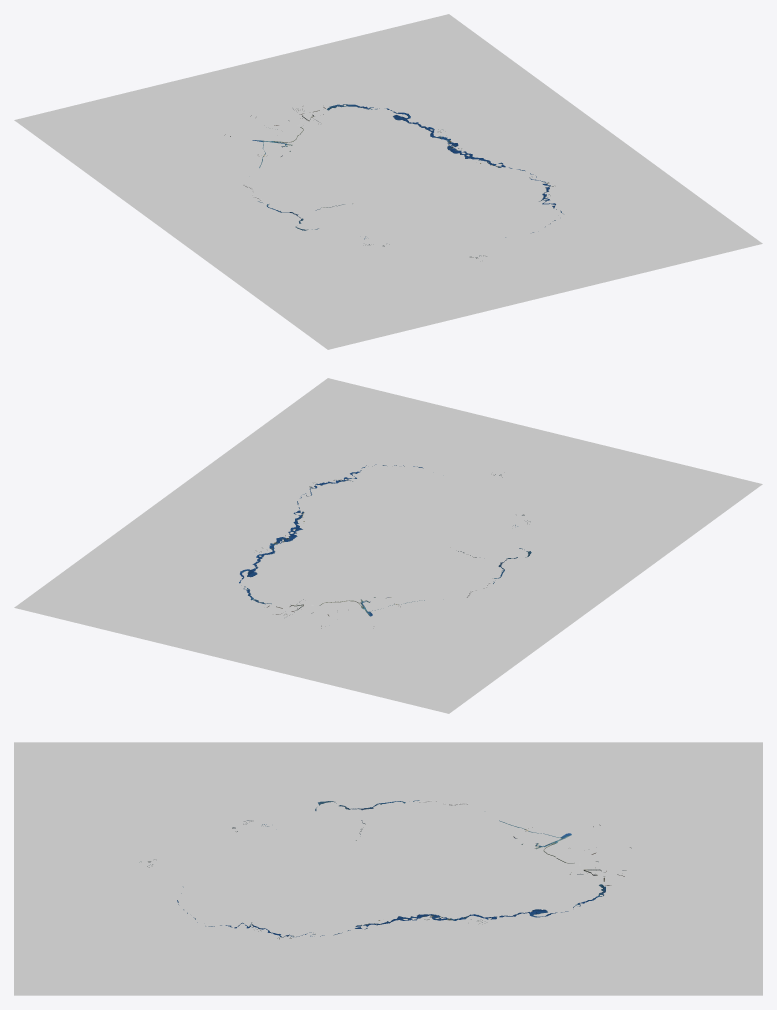
Rendered from los-santos.glb.
3 views of the same model, one above another, from view 1: azimuth 30°, elevation 25°; view 2: azimuth 150°, elevation 25°; view 3: azimuth 270°, elevation 25° (orthographic). The views are drawn at different scales.
Visible parts, largest first — view 1: Box002_gray_0, land_map_color_0; view 2: Box002_gray_0, land_map_color_0; view 3: Box002_gray_0, land_map_color_0.
Boxes of the visible parts, x1,y1,x2,y2 form: Box002_gray_0: (14,14,762,349); land_map_color_0: (252,104,562,258); Box002_gray_0: (14,378,762,713); land_map_color_0: (239,464,531,616); Box002_gray_0: (14,742,762,995); land_map_color_0: (139,800,626,939).
Size of the model in its own units: 12001 by 741 by 15000.
45 materials, 44 textured.
